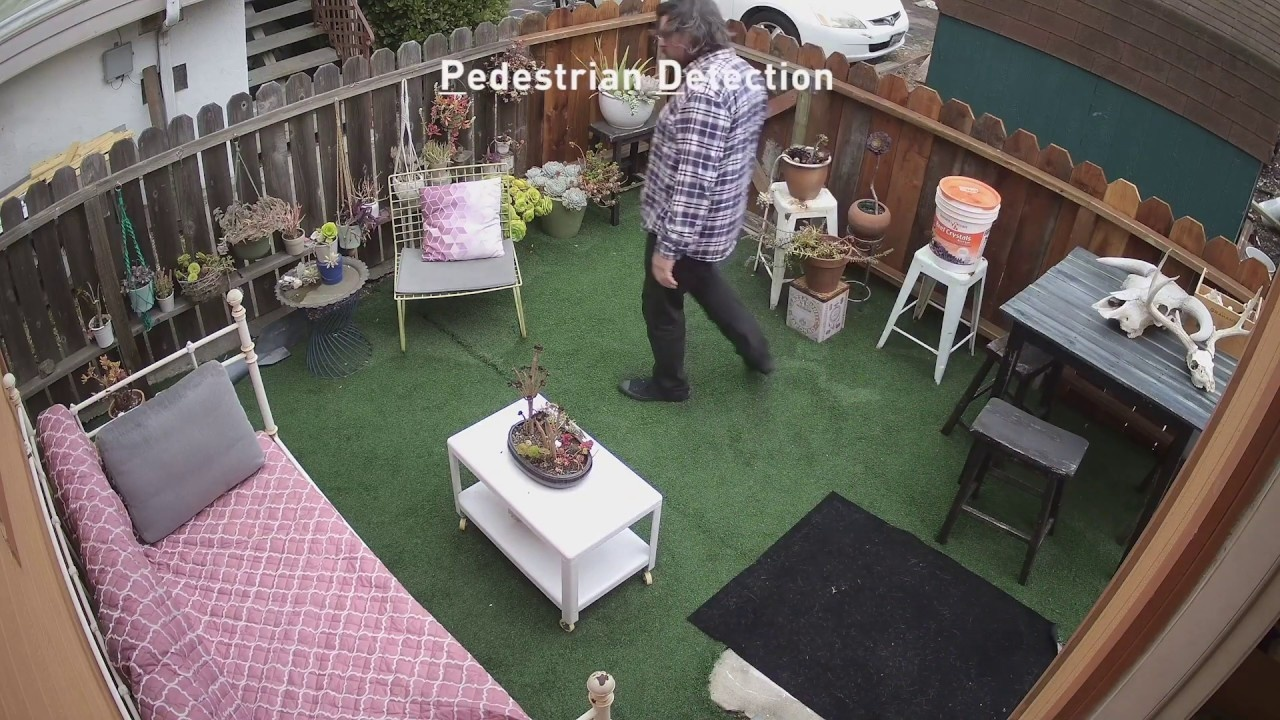person: (628, 5, 778, 405)
